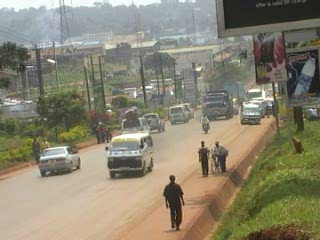Car: (37, 143, 83, 177)
Motorcycle: (198, 114, 211, 134)
